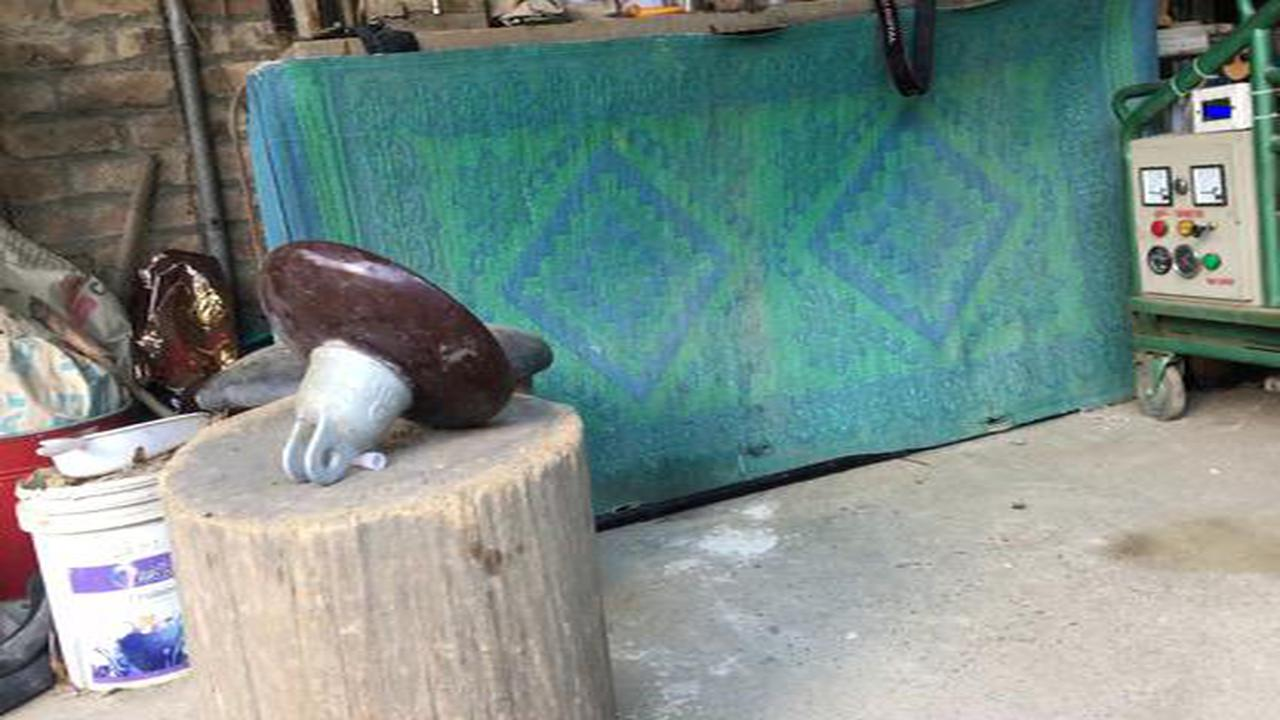insulator_disc: (254, 234, 525, 487)
